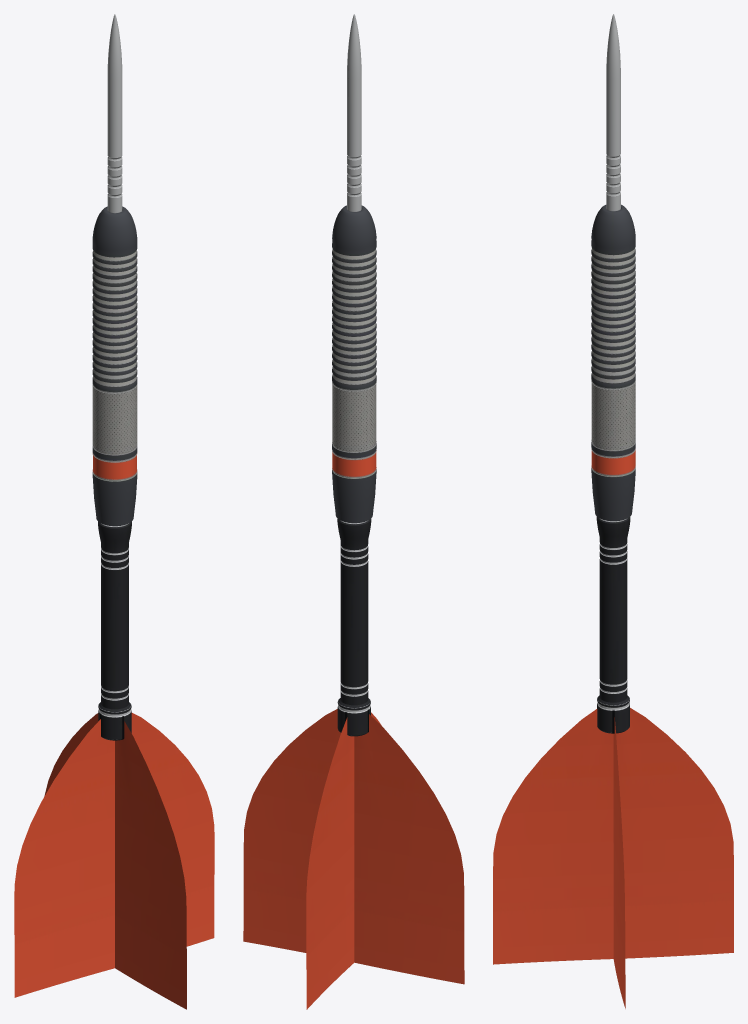
The model's file is dart.glb.
The picture shows the model from 3 angles, left to right: view 1: azimuth 30°, elevation 25°; view 2: azimuth 150°, elevation 25°; view 3: azimuth 270°, elevation 25°; orthographic projection.
Visible parts, largest first — view 1: flight, barrel, shaft, tip; view 2: flight, barrel, shaft, tip; view 3: flight, barrel, shaft, tip.
Part boxes in pixels (x1=…): flight: x1=14, y1=713, x2=214, y2=1009; barrel: x1=92, y1=206, x2=137, y2=526; shaft: x1=98, y1=521, x2=131, y2=740; tip: x1=107, y1=14, x2=122, y2=213; flight: x1=243, y1=709, x2=464, y2=1009; barrel: x1=332, y1=205, x2=376, y2=523; shaft: x1=337, y1=518, x2=371, y2=736; tip: x1=347, y1=14, x2=361, y2=211; flight: x1=493, y1=708, x2=733, y2=1008; barrel: x1=591, y1=204, x2=635, y2=521; shaft: x1=596, y1=517, x2=630, y2=733; tip: x1=606, y1=14, x2=620, y2=211.
Bounding box in the file's own units: 0.0359 × 0.155 × 0.0358.
2 materials, 2 textured.
